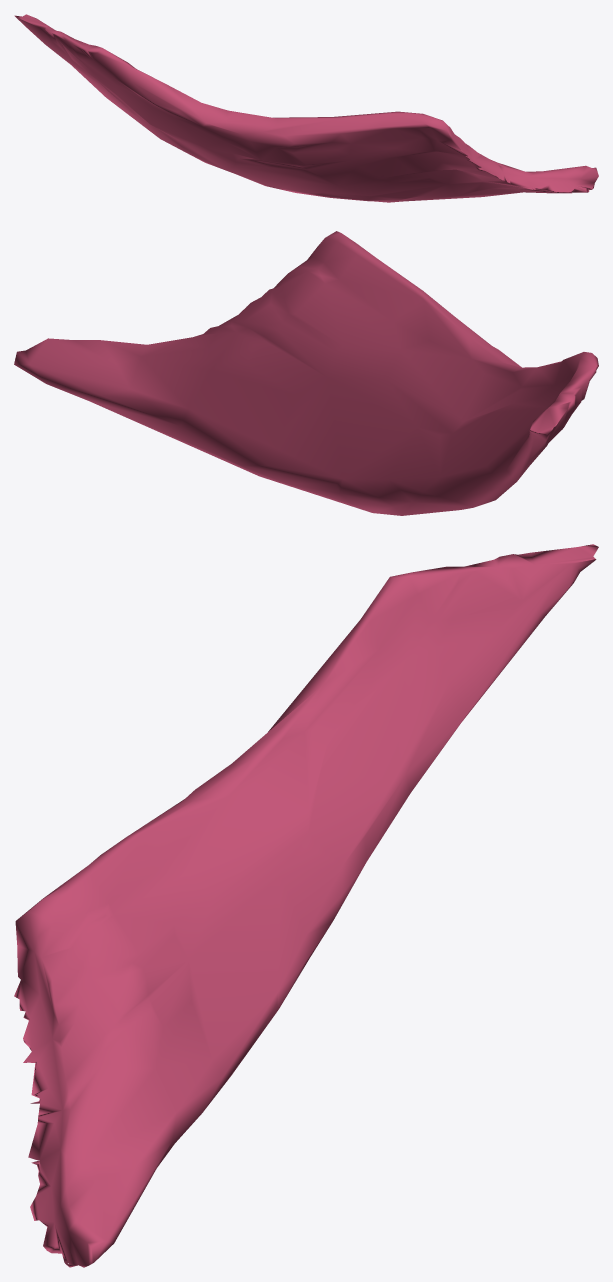
3 renders of one model, top to bottom at view 1: azimuth 30°, elevation 25°; view 2: azimuth 150°, elevation 25°; view 3: azimuth 270°, elevation 25°, orthographic. The views are drawn at different scales.
Visible parts, largest first — view 1: 右侧胸大肌锁骨部; view 2: 右侧胸大肌锁骨部; view 3: 右侧胸大肌锁骨部.
Part boxes in pixels (bbox=[...]): 右侧胸大肌锁骨部: bbox=[14, 14, 598, 202]; 右侧胸大肌锁骨部: bbox=[14, 231, 598, 515]; 右侧胸大肌锁骨部: bbox=[14, 544, 598, 1267].
Size of the model in its own units: 0.2555 by 0.096 by 0.1556.
